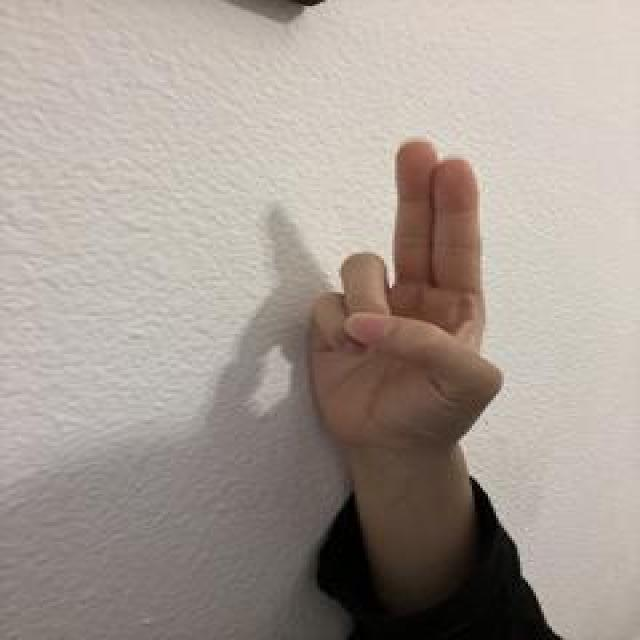U: (304, 132, 509, 458)
